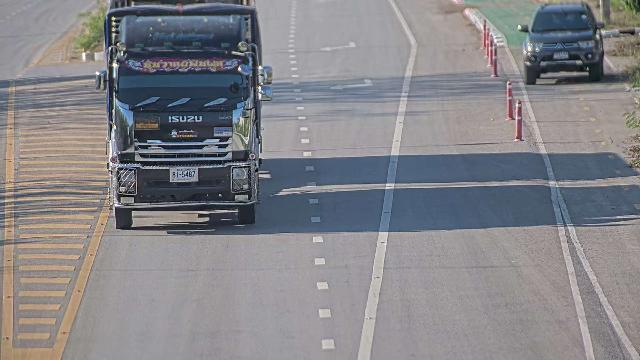pickup-truck: (517, 2, 606, 85)
truck: (98, 4, 285, 237)
